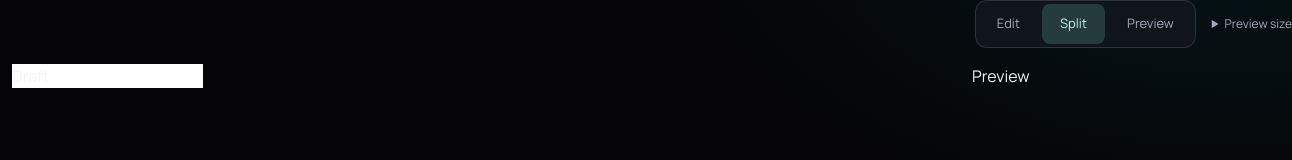
Test: hides the preview without remounting the editor and remembers the choice
Step 1. Click the button "Edit" → (1008, 24), box left=979, top=4, right=1038, bottom=44
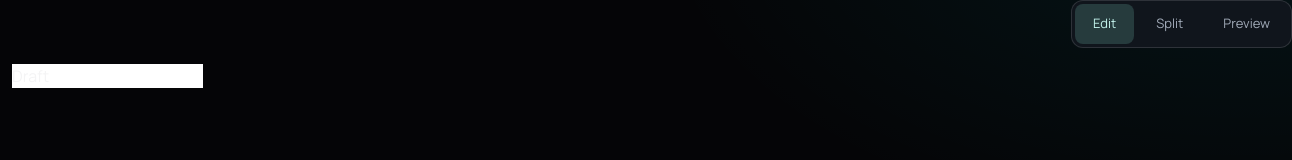
Result: the element with class "workspace-preview-content" is gone
Step 2. Click the button "Split" → (1170, 24), box left=1138, top=4, right=1201, bottom=44
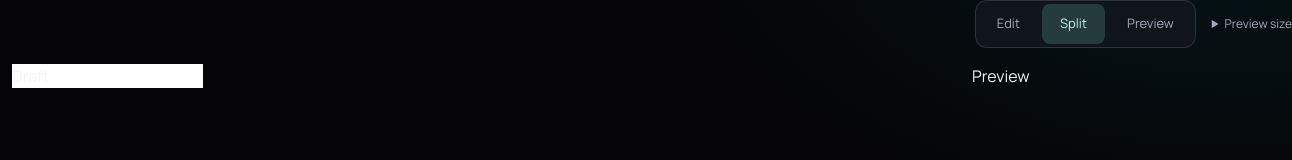
Result: the element with class "workspace-preview-content" reads "Preview" at left=972, top=65, right=1030, bottom=87
